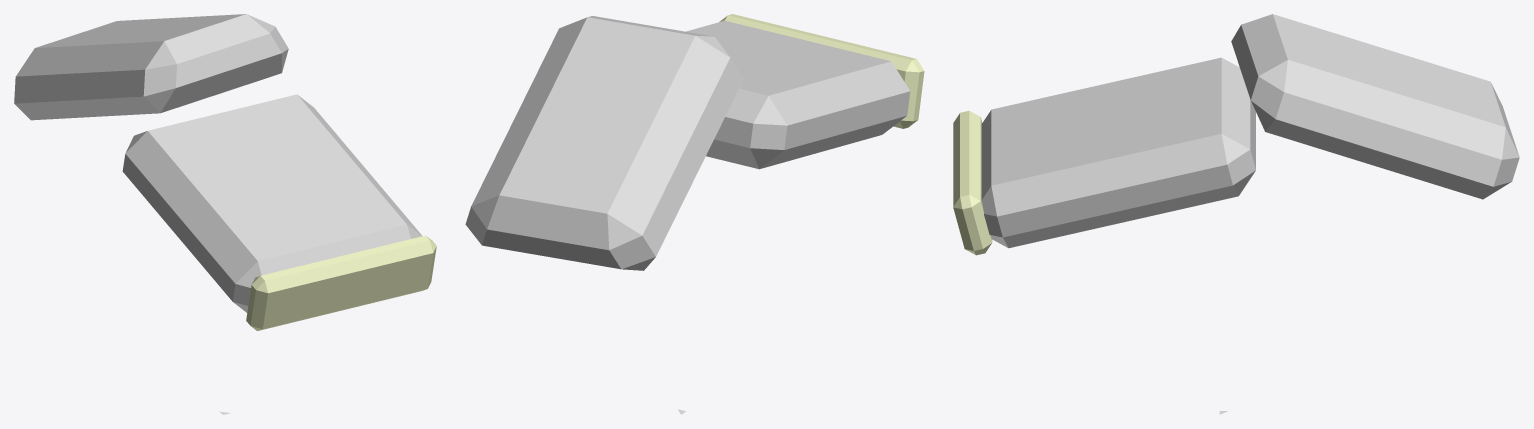
Rendered from fx_clip_b.glb.
3 renders of one model, left to right at view 1: azimuth 30°, elevation 25°; view 2: azimuth 150°, elevation 25°; view 3: azimuth 270°, elevation 25°, orthographic. The views are drawn at different scales.
Parts seen in each view (by area): view 1: SmoothPlastic__FFFFFF, SmoothPlastic__EEF4C4; view 2: SmoothPlastic__FFFFFF, SmoothPlastic__EEF4C4; view 3: SmoothPlastic__FFFFFF, SmoothPlastic__EEF4C4.
Boxes of the visible parts, <box> form: SmoothPlastic__FFFFFF: <box>14,14,422,312</box>; SmoothPlastic__EEF4C4: <box>246,235,436,330</box>; SmoothPlastic__FFFFFF: <box>465,16,910,270</box>; SmoothPlastic__EEF4C4: <box>719,14,924,128</box>; SmoothPlastic__FFFFFF: <box>981,14,1519,248</box>; SmoothPlastic__EEF4C4: <box>953,110,992,255</box>.
Bounding box in the file's own units: 0.48 × 0.8832 × 1.19.
